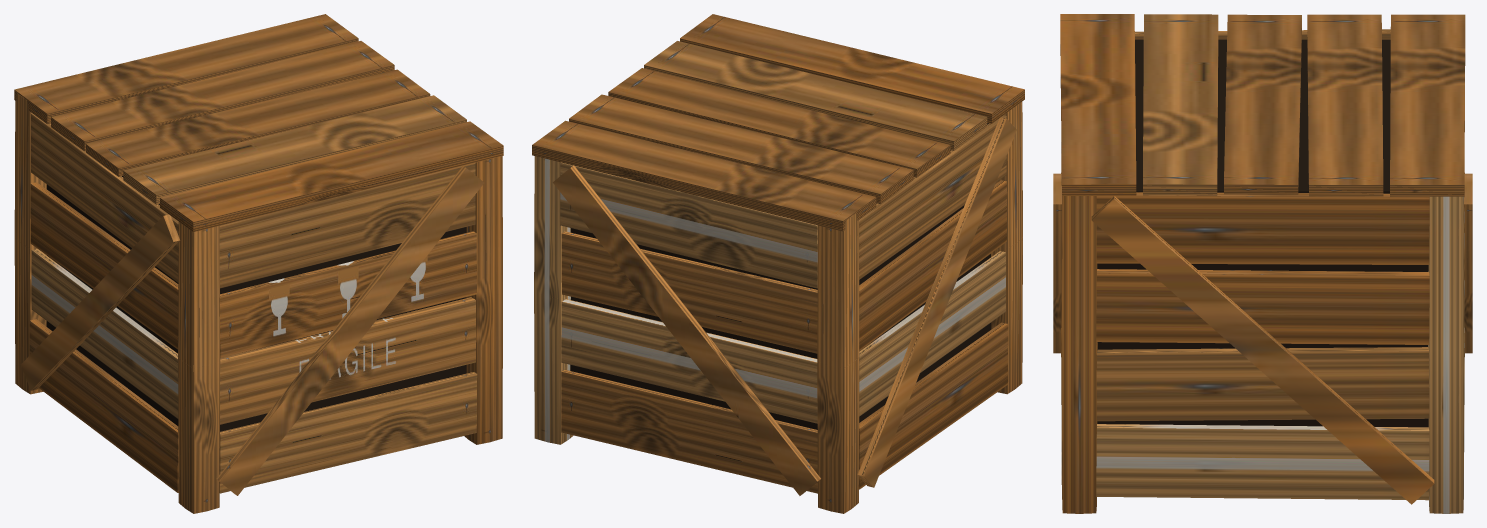
The model's file is prop_soft_crate.glb.
The picture shows the model from 3 angles, left to right: view 1: azimuth 30°, elevation 25°; view 2: azimuth 150°, elevation 25°; view 3: azimuth 270°, elevation 25°; orthographic projection. The views are drawn at different scales.
Visible parts, largest first — view 1: prop_soft_crate_body; view 2: prop_soft_crate_body; view 3: prop_soft_crate_body.
Boxes of the visible parts, x1,y1,x2,y2 form: prop_soft_crate_body: (14, 14, 503, 513); prop_soft_crate_body: (532, 14, 1024, 513); prop_soft_crate_body: (1053, 14, 1472, 513).
Bounding box in the file's own units: 0.852 × 0.7411 × 0.852.
1 material, 1 textured.
